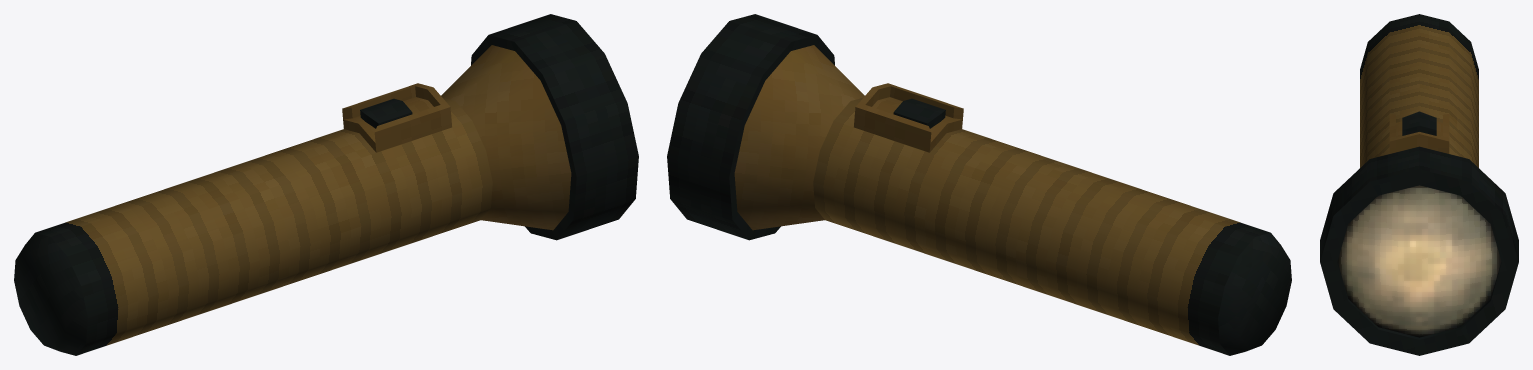
File: flashlight_mp_1.glb
3 renders of one model, left to right at view 1: azimuth 30°, elevation 25°; view 2: azimuth 150°, elevation 25°; view 3: azimuth 270°, elevation 25°, orthographic. The views are drawn at different scales.
Visible parts, largest first — view 1: flashlight_mp_1; view 2: flashlight_mp_1; view 3: flashlight_mp_1.
Boxes of the visible parts, x1,y1,x2,y2 form: flashlight_mp_1: (14,14,638,355); flashlight_mp_1: (667,14,1291,355); flashlight_mp_1: (1320,14,1518,355).
Size of the model in its own units: 0.2334 by 0.0814 by 0.078.
Materials: 1 (1 with a texture image).
